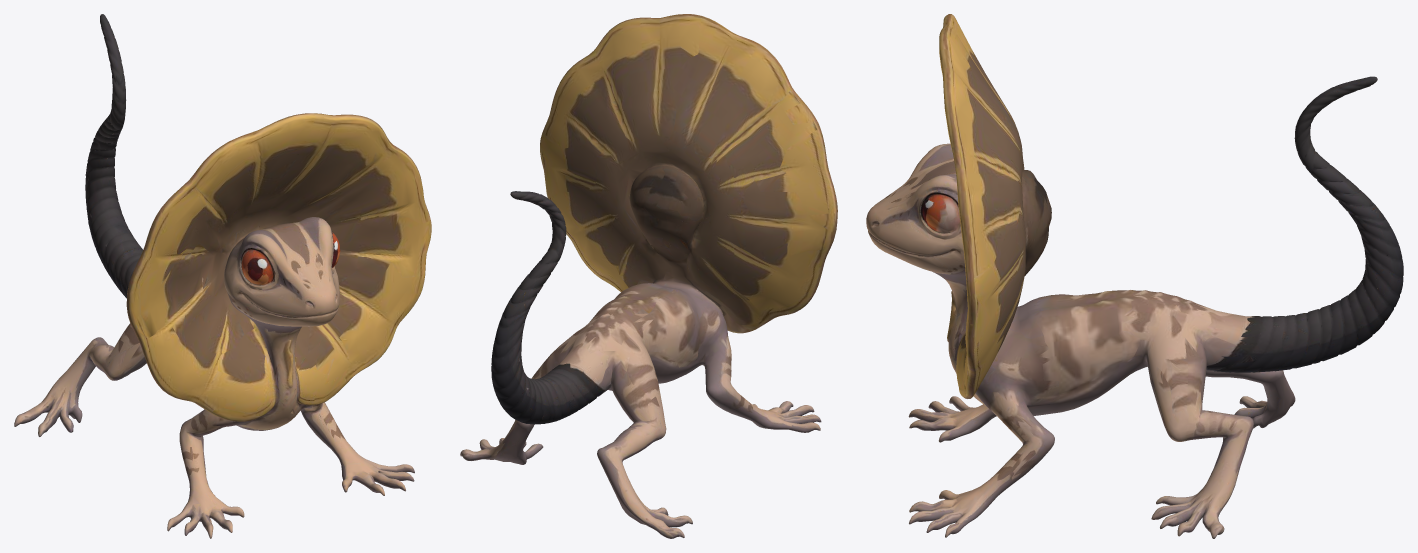
The picture shows the model from 3 angles, left to right: view 1: azimuth 30°, elevation 25°; view 2: azimuth 150°, elevation 25°; view 3: azimuth 270°, elevation 25°; orthographic projection. The views are drawn at different scales.
Visible parts, largest first — view 1: Mesh_0; view 2: Mesh_0; view 3: Mesh_0.
Boxes of the visible parts, x1,y1,x2,y2 form: Mesh_0: (14,14,431,538); Mesh_0: (460,14,837,538); Mesh_0: (866,14,1403,538).
Size of the model in its own units: 1.39 by 1.71 by 1.9.
1 material, 1 textured.
